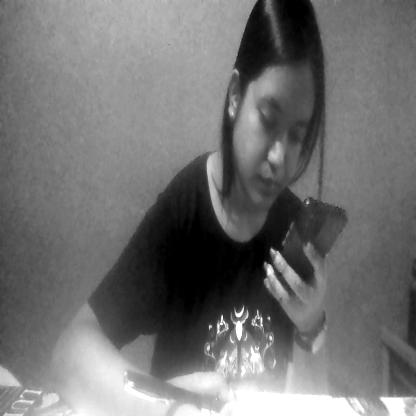Distracted: (226, 0, 320, 198)
